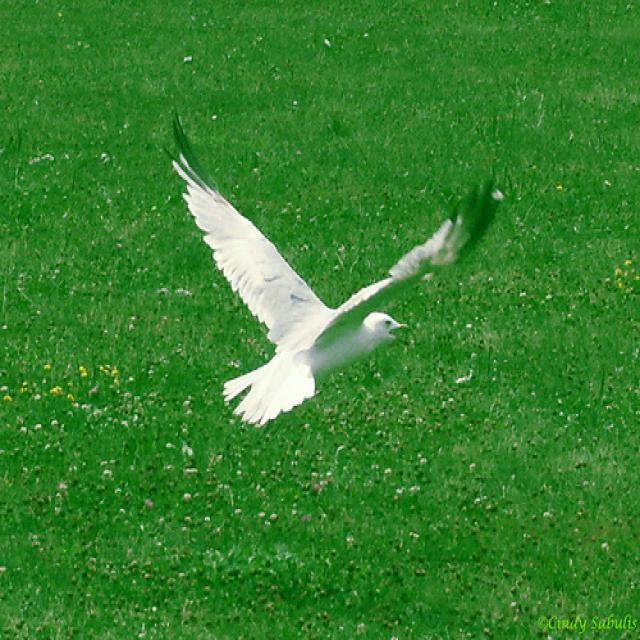bird: (165, 108, 500, 429)
